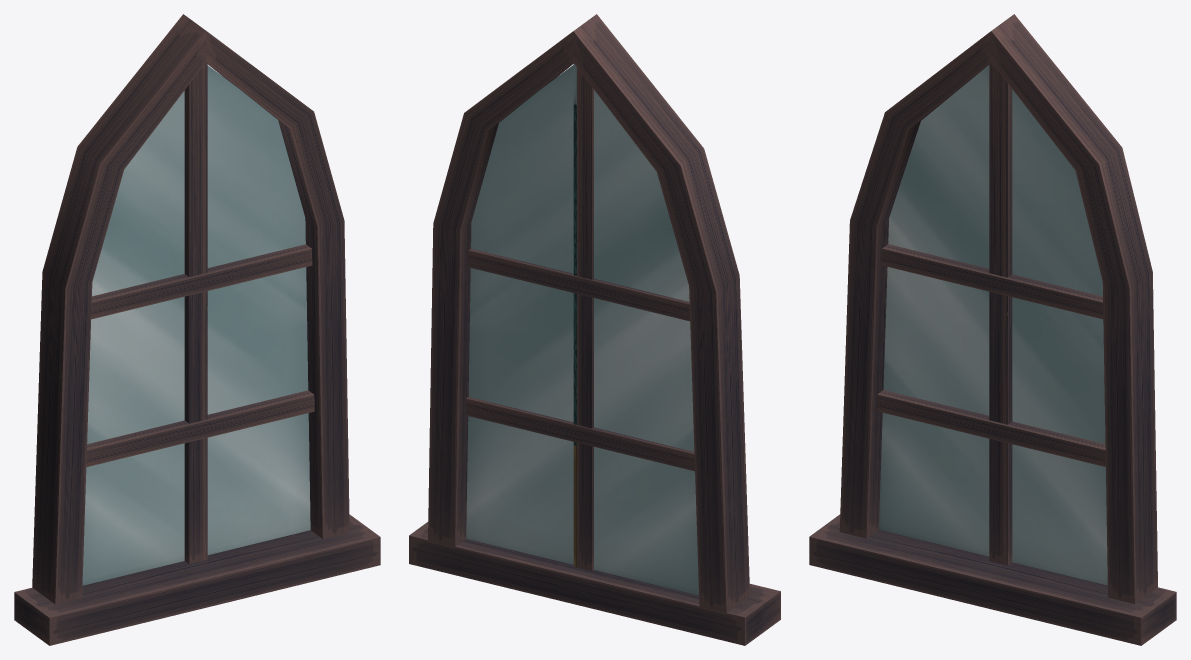
The model's file is Window_E.fbx.
3 renders of one model, left to right at view 1: azimuth 30°, elevation 25°; view 2: azimuth 150°, elevation 25°; view 3: azimuth 330°, elevation 25°, orthographic.
Visible parts, largest first — view 1: Window_E; view 2: Window_E; view 3: Window_E.
Boxes of the visible parts, bbox=[...] form: Window_E: bbox=[14, 14, 380, 645]; Window_E: bbox=[409, 14, 780, 645]; Window_E: bbox=[809, 14, 1176, 645].
Bounding box in the file's own units: 0.1554 × 0.2533 × 0.0288.
